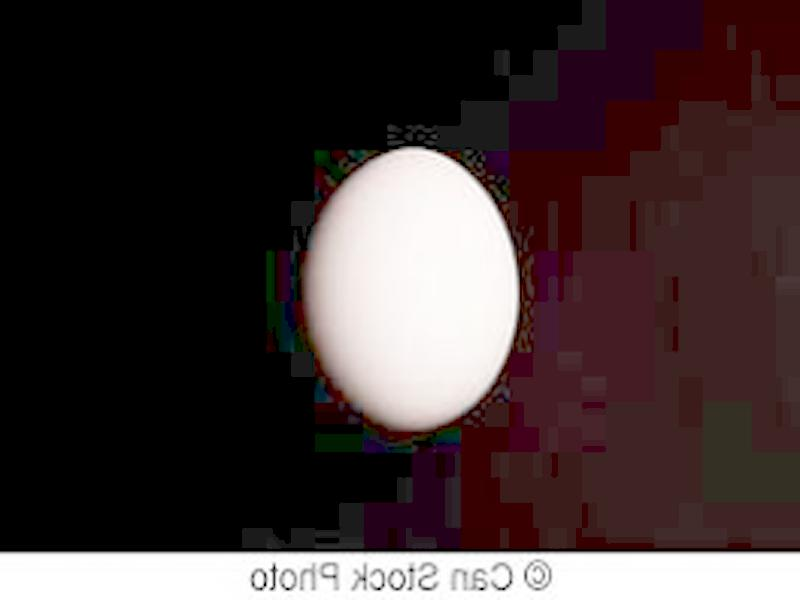Eggs: (308, 148, 517, 434)
